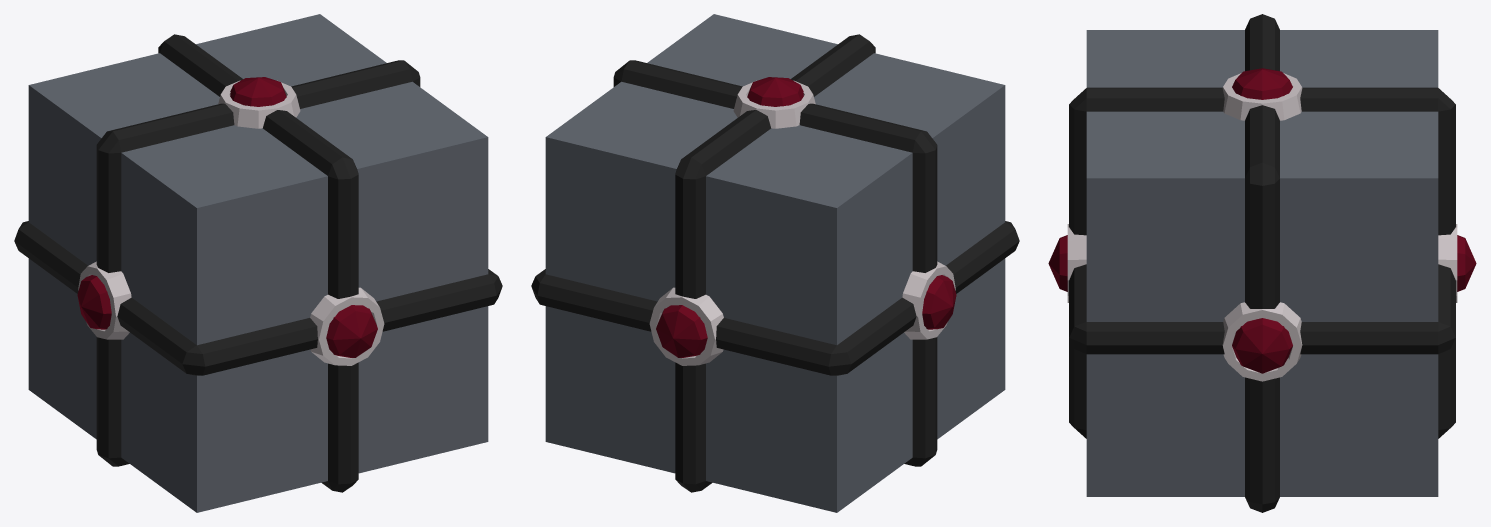
Rendered from PackageExp.fbx.
The picture shows the model from 3 angles, left to right: view 1: azimuth 30°, elevation 25°; view 2: azimuth 150°, elevation 25°; view 3: azimuth 270°, elevation 25°; orthographic projection. The views are drawn at different scales.
Parts seen in each view (by area): view 1: Cube; view 2: Cube; view 3: Cube.
Boxes of the visible parts, x1,y1,x2,y2 form: Cube: (14,14,502,512); Cube: (531,14,1019,512); Cube: (1048,14,1476,512).
Size of the model in its own units: 244 by 244 by 244.
